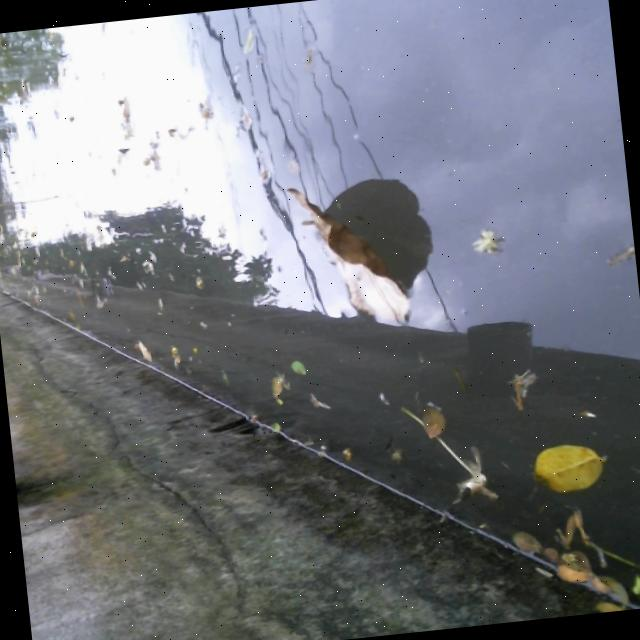Big-leaf: (276, 166, 423, 340)
Small-leaf: (519, 435, 615, 498), (579, 561, 638, 614), (545, 544, 600, 589), (415, 394, 457, 449), (124, 333, 162, 367), (263, 365, 293, 408), (503, 525, 542, 558), (230, 22, 262, 58), (158, 340, 187, 369), (622, 566, 640, 600), (289, 354, 311, 377), (188, 269, 209, 292), (538, 543, 559, 563)
